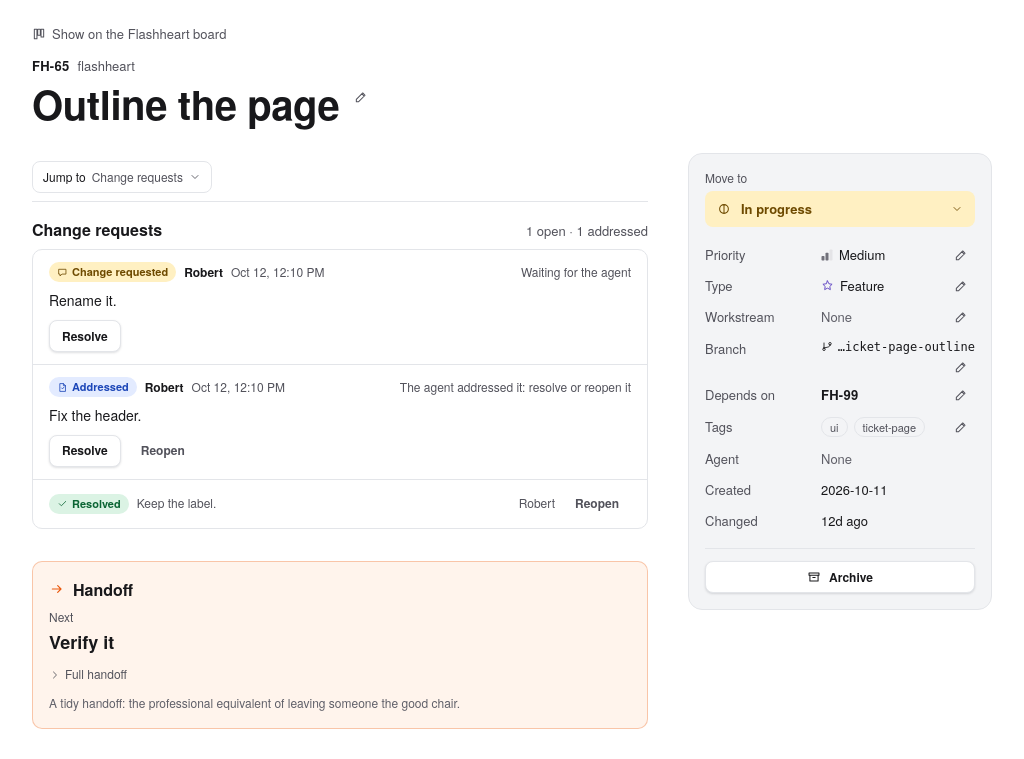
Scenario: the change requests list (REV-6) › keeps a failed change's reason beside it
What coordinates should you click on to do the following:
click the button with aria-label "Resolve “Rename it.”"
I would click on:
 (85, 336)
Its box is [49, 320, 121, 352].
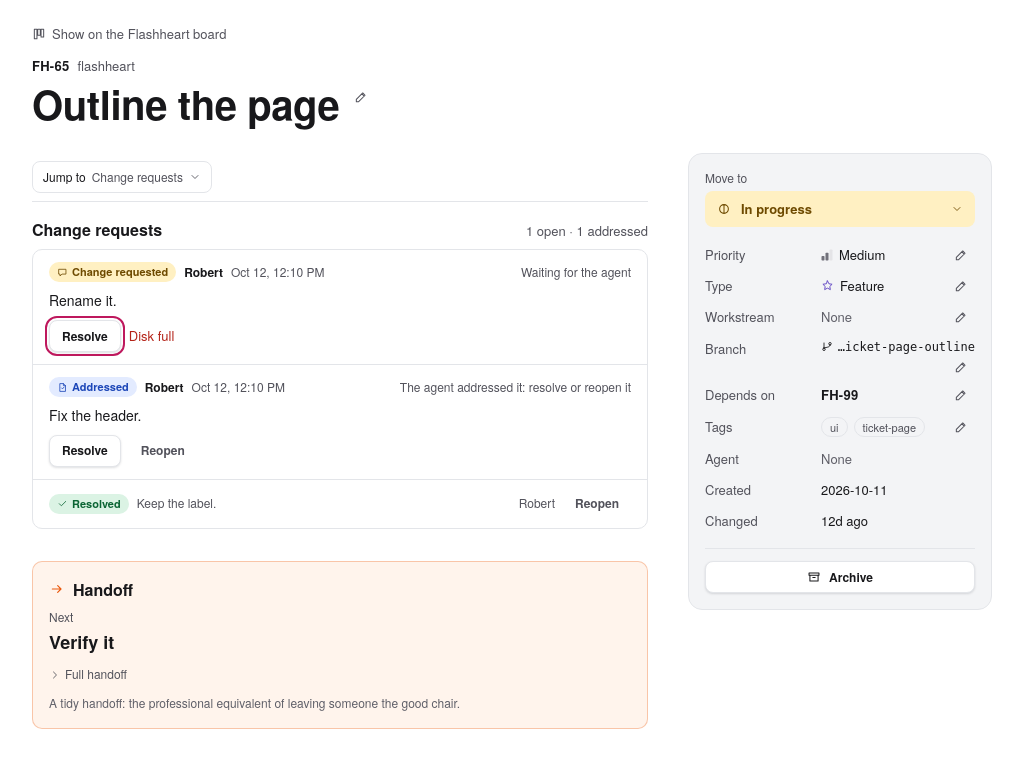
Check: the message reads "Disk full", box [129, 326, 174, 345]
